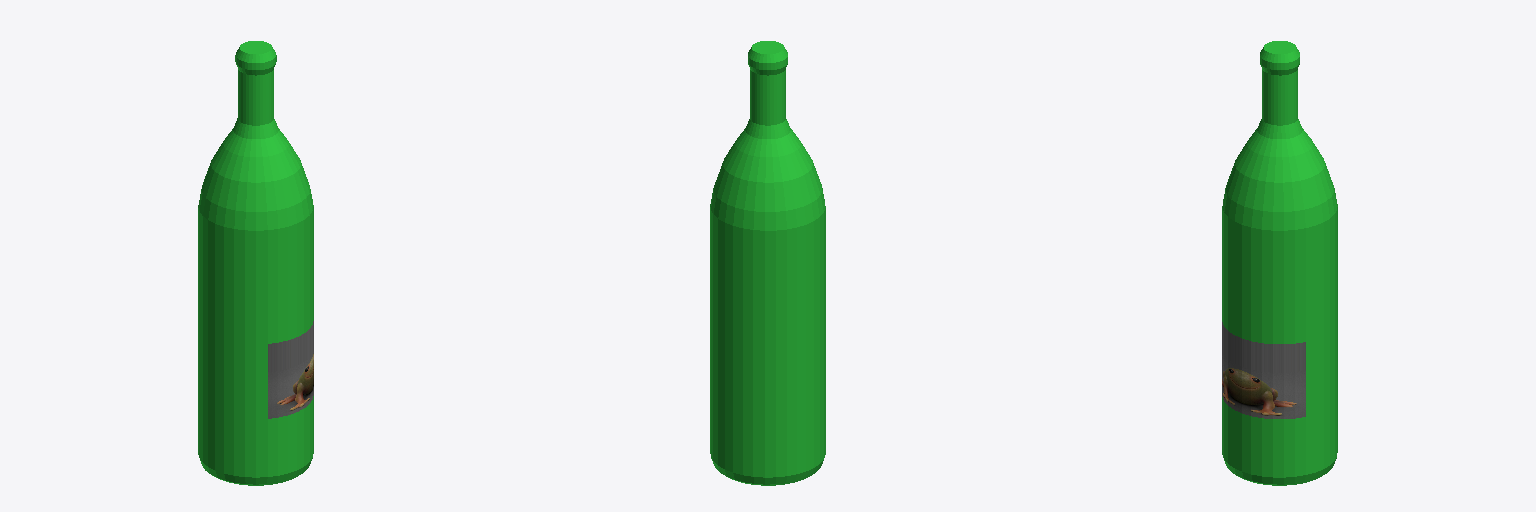
3 views of the same model, side by side, from view 1: azimuth 30°, elevation 25°; view 2: azimuth 150°, elevation 25°; view 3: azimuth 270°, elevation 25° (orthographic).
Visible parts, largest first — view 1: Cylinder; view 2: Cylinder; view 3: Cylinder.
Boxes of the visible parts, box(x1,y1,x2,y2) form: Cylinder: box(198, 41, 313, 485); Cylinder: box(710, 41, 825, 485); Cylinder: box(1222, 41, 1337, 485).
Bounding box in the file's own units: 0.7124 × 2.84 × 0.7124.
2 materials, 1 textured.